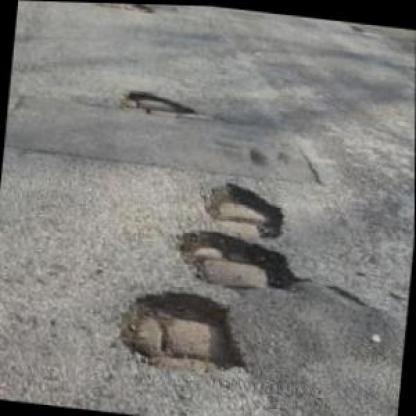pothole: (115, 282, 254, 377), (172, 223, 305, 294), (200, 174, 287, 236), (117, 83, 201, 117)
